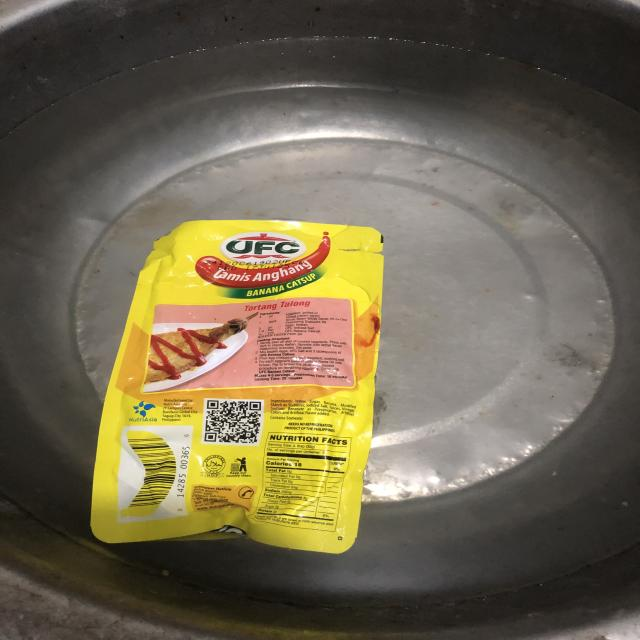Plastic Pouch: (98, 213, 392, 570)
